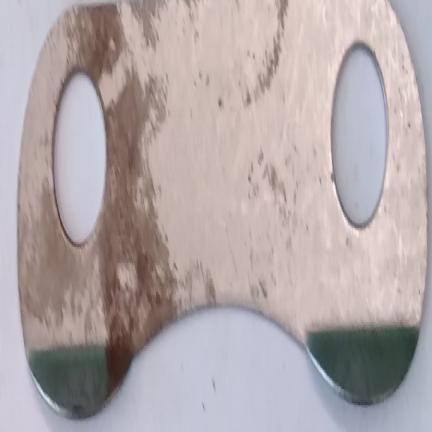besi_tidak_karat: (158, 0, 424, 389)
karat: (19, 3, 175, 381), (262, 0, 287, 90), (130, 0, 165, 47)
